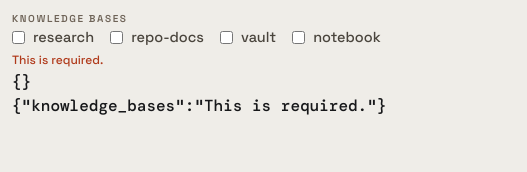
Scenario: ParameterFields › offers the registered knowledge bases and nothing else, inside the schema's own bounds
This screenshot has width=527, height=172.
expect the text "This is required." is shown: met, box [12,52,103,68]
Click the checkbox labelled "research".
click(18, 37)  # box [12,31,25,44]
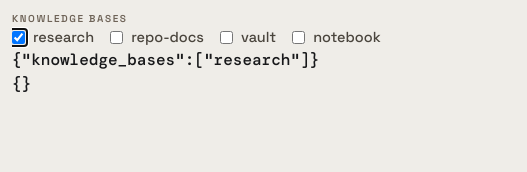
Click the checkbox labelled "repo-docs".
click(117, 37)  # box [110,31,123,44]
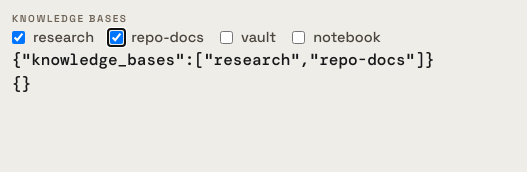
Click the checkbox labelled "vault".
click(226, 37)  # box [220,31,233,44]
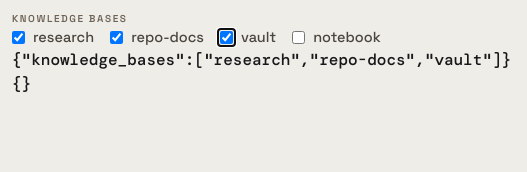
Click the checkbox labelled "notebook".
click(299, 37)  # box [292,31,305,44]
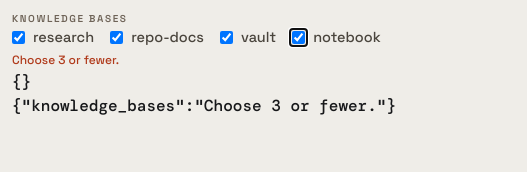
expect the text "Choose 3 or fewer." is shown: met, box [12,52,119,68]
